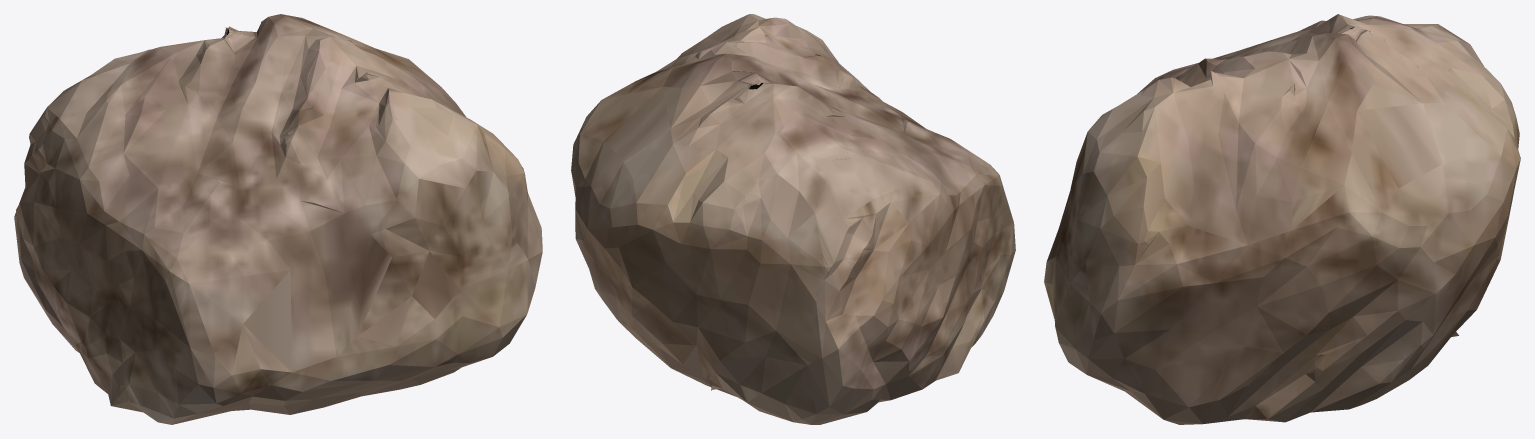
The model's file is Rock1.gltf.
3 renders of one model, left to right at view 1: azimuth 30°, elevation 25°; view 2: azimuth 150°, elevation 25°; view 3: azimuth 270°, elevation 25°, orthographic. The views are drawn at different scales.
Parts seen in each view (by area): view 1: model_New Qlone.001; view 2: model_New Qlone.001; view 3: model_New Qlone.001.
Boxes of the visible parts, x1,y1,x2,y2 form: model_New Qlone.001: [14, 14, 542, 424]; model_New Qlone.001: [571, 14, 1015, 424]; model_New Qlone.001: [1044, 14, 1520, 424].
Bounding box in the file's own units: 38.74 × 30.51 × 39.44.
1 material, 1 textured.
